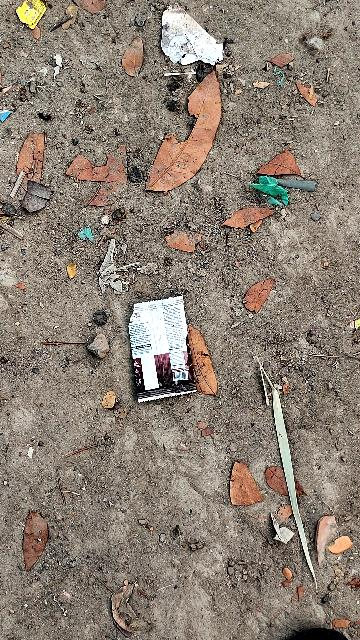packet: (112, 297, 214, 414)
